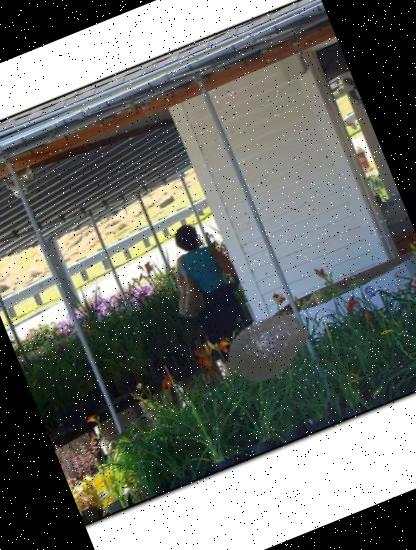Avocado: (212, 290, 326, 404)
